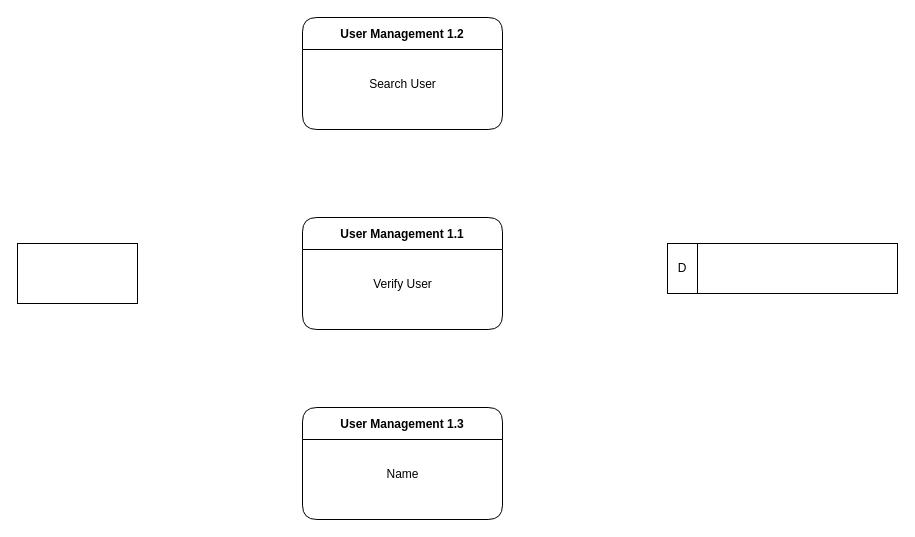
This 915x537 diagram has some shape labels left out. Each missing label, with the box of its shape:
User: (16, 242, 138, 304)
Users: (666, 242, 898, 294)
